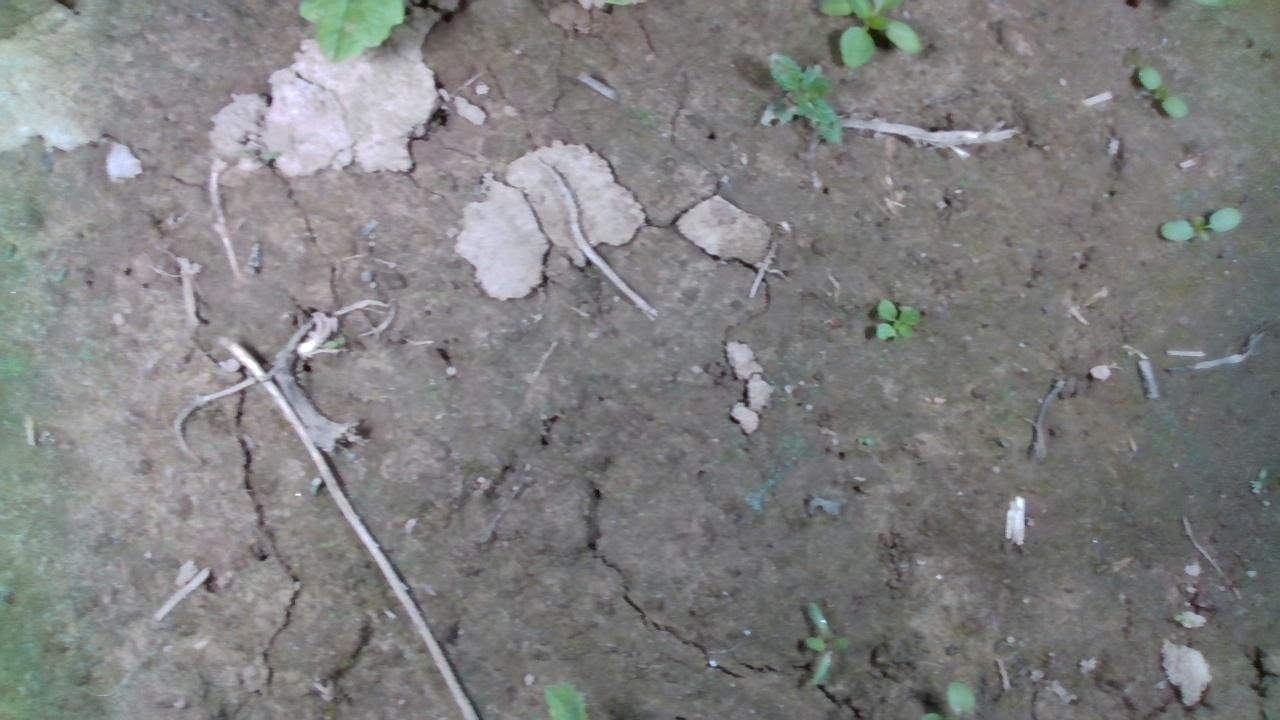weed: (758, 50, 841, 143), (800, 598, 848, 689), (1156, 205, 1242, 242), (1137, 64, 1188, 119), (874, 293, 920, 340)
